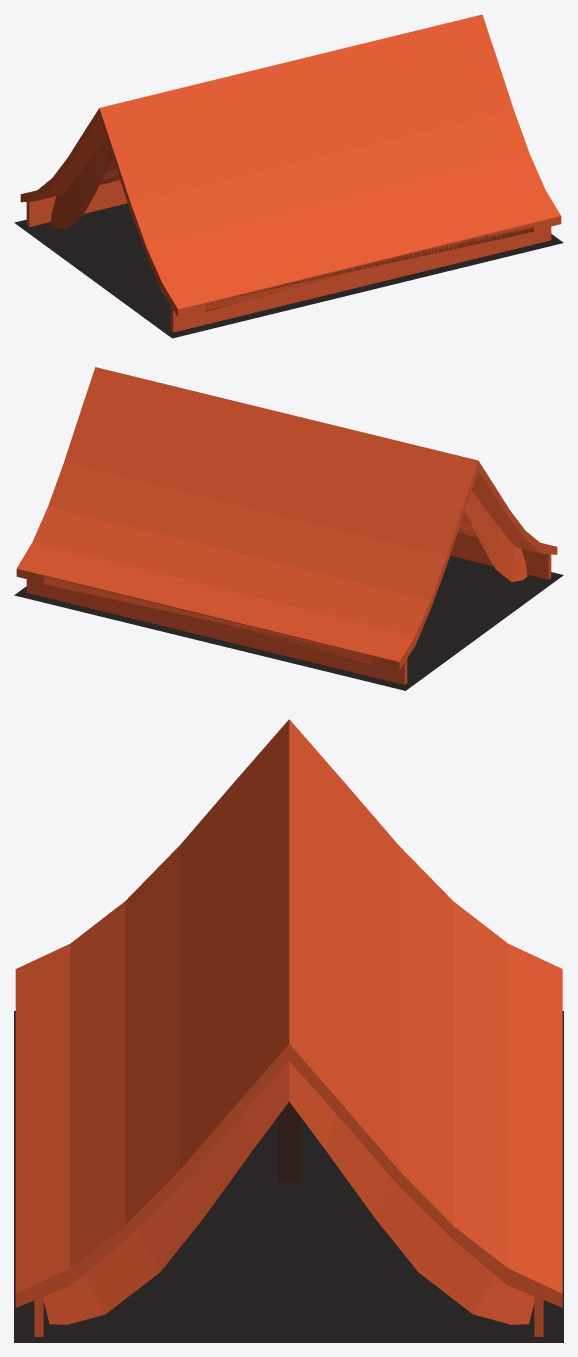
Rendered from Tent.fbx.
The picture shows the model from 3 angles, top to bottom: view 1: azimuth 30°, elevation 25°; view 2: azimuth 150°, elevation 25°; view 3: azimuth 270°, elevation 25°; orthographic projection. The views are drawn at different scales.
Visible parts, largest first — view 1: Cube.003, Plane, Cube, Cube.001; view 2: Cube.003, Plane, Cube.001, Cube; view 3: Cube.003, Plane, Cube.002.
Boxes of the visible parts, left/top/right/bottom form: Cube.003: left=20, top=14, right=561, bottom=317; Plane: left=14, top=203, right=563, bottom=338; Cube: left=170, top=226, right=551, bottom=332; Cube.001: left=26, top=180, right=127, bottom=226; Cube.003: left=16, top=367, right=557, bottom=669; Plane: left=14, top=555, right=563, bottom=690; Cube.001: left=26, top=579, right=407, bottom=684; Cube: left=450, top=533, right=551, bottom=579; Cube.003: left=15, top=719, right=562, bottom=1324; Plane: left=14, top=1011, right=563, bottom=1342; Cube.002: left=278, top=1101, right=299, bottom=1182.
Bounding box in the file's own units: 2000 × 847 × 1400.
